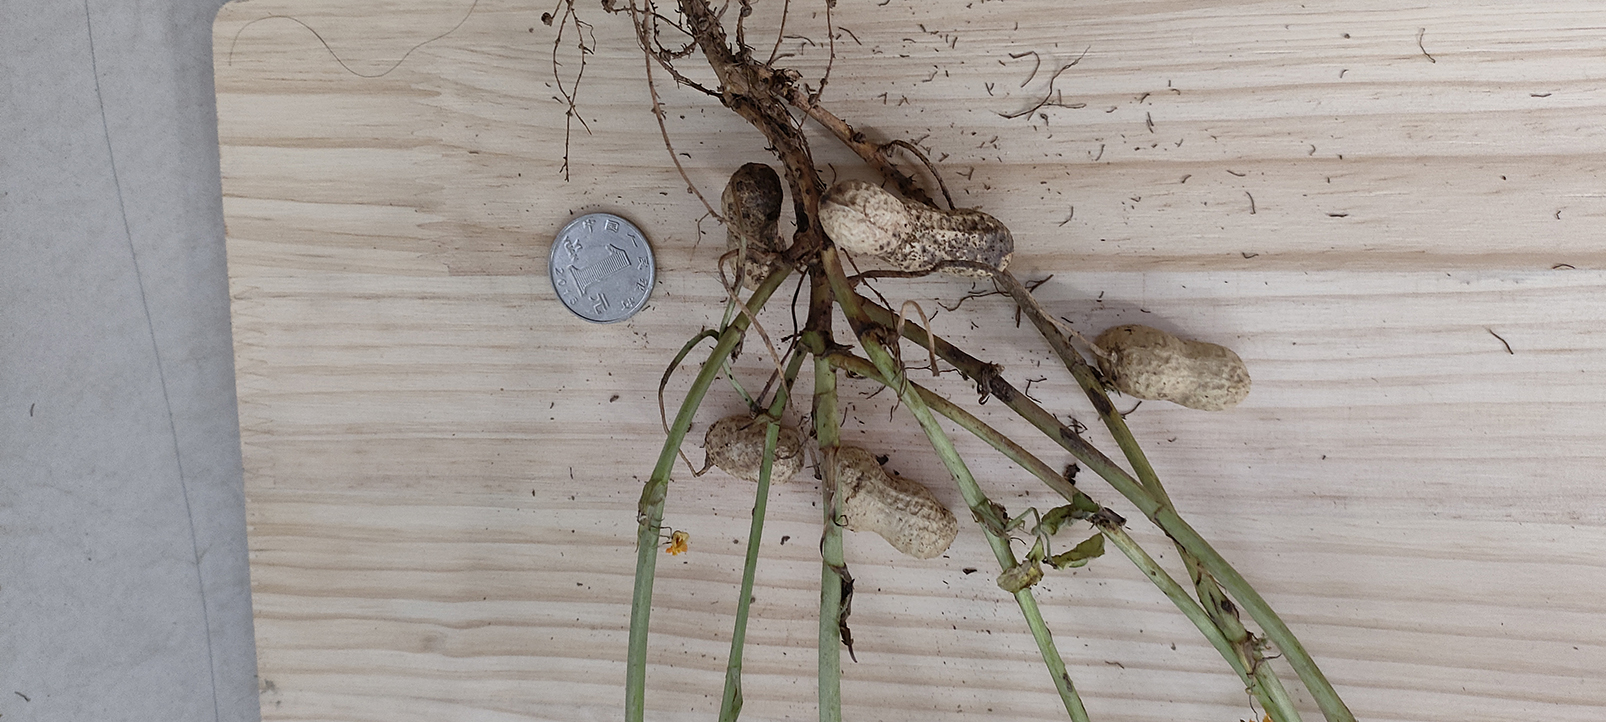h: (816, 180, 1017, 279), (1099, 322, 1252, 413), (838, 443, 958, 559)
l: (717, 161, 785, 290), (704, 421, 804, 483)
